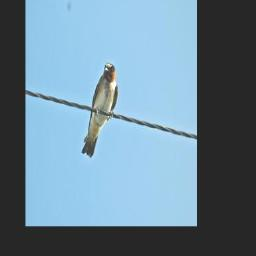Swallow: (80, 60, 118, 158)
